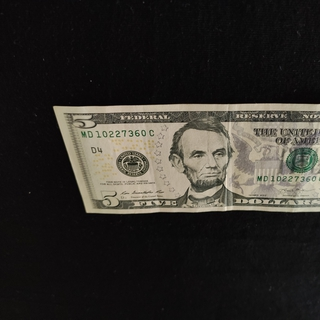5USDFront: (52, 101, 320, 214)
